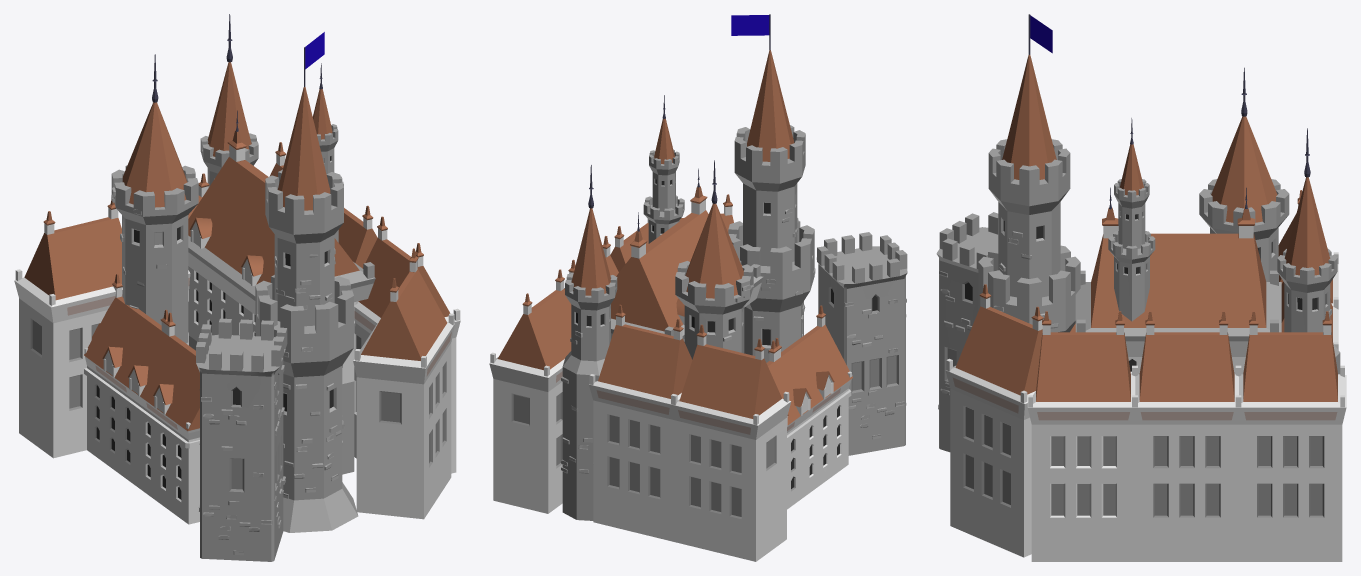
Rendered from Ani_castle_Shake.fbx.
3 views of the same model, side by side, from view 1: azimuth 30°, elevation 25°; view 2: azimuth 150°, elevation 25°; view 3: azimuth 270°, elevation 25° (orthographic). The views are drawn at different scales.
Parts seen in each view (by area): view 1: polySurface58, polySurface52, pCube32, pCube5, polySurface19, polySurface53, polySurface55, polySurface51, polySurface56, polySurface49; view 2: polySurface19, polySurface48, polySurface58, pCube32, polySurface50, polySurface56, polySurface53, pCube5, polySurface55, polySurface57, polySurface51; view 3: polySurface50, polySurface51, polySurface49, polySurface53, polySurface52, polySurface58, polySurface55, pCube32, polySurface56, polySurface19, polySurface57, polySurface48.
Boxes of the visible parts, left/top/right/bottom form: polySurface58: left=255, top=47, right=358, bottom=532; polySurface52: left=353, top=248, right=454, bottom=519; pCube32: left=196, top=318, right=287, bottom=561; pCube5: left=84, top=274, right=199, bottom=524; polySurface19: left=14, top=200, right=122, bottom=458; polySurface53: left=188, top=63, right=375, bottom=474; polySurface55: left=111, top=54, right=198, bottom=343; polySurface51: left=354, top=216, right=460, bottom=473; polySurface56: left=200, top=14, right=258, bottom=187; polySurface49: left=338, top=205, right=377, bottom=268; polySurface19: left=670, top=324, right=791, bottom=561; polySurface48: left=589, top=304, right=692, bottom=541; polySurface58: left=728, top=14, right=815, bottom=362; pCube32: left=816, top=232, right=907, bottom=455; polySurface50: left=489, top=269, right=571, bottom=513; polySurface56: left=561, top=165, right=617, bottom=520; polySurface53: left=611, top=95, right=763, bottom=341; pCube5: left=766, top=305, right=852, bottom=509; polySurface55: left=675, top=160, right=753, bottom=359; polySurface57: left=731, top=15, right=769, bottom=35; polySurface51: left=610, top=219, right=648, bottom=271; polySurface50: left=1235, top=311, right=1346, bottom=561; polySurface51: left=1027, top=311, right=1137, bottom=561; polySurface49: left=1131, top=311, right=1241, bottom=561; polySurface53: left=1075, top=118, right=1281, bottom=374; polySurface52: left=945, top=284, right=1043, bottom=557; polySurface58: left=978, top=14, right=1080, bottom=332; polySurface55: left=1199, top=67, right=1289, bottom=281; pCube32: left=936, top=212, right=998, bottom=452; polySurface56: left=1277, top=128, right=1340, bottom=374; polySurface19: left=1278, top=190, right=1338, bottom=309; polySurface57: left=1030, top=15, right=1052, bottom=53; polySurface48: left=1281, top=282, right=1338, bottom=349.
Size of the model in its own units: 408 by 616 by 485.
